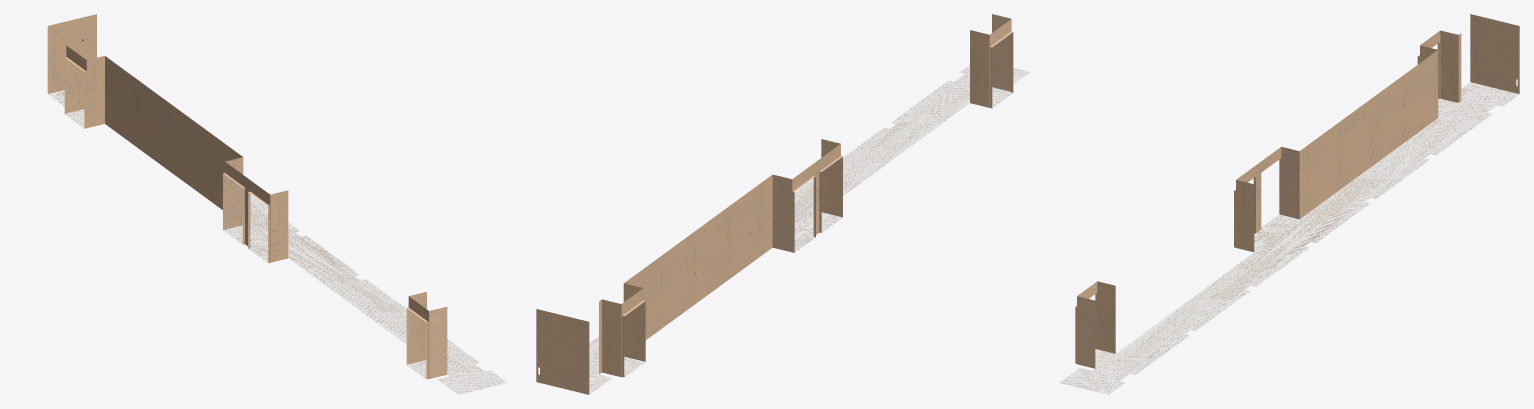
The model's file is COM040.obj.
3 views of the same model, side by side, from view 1: azimuth 30°, elevation 25°; view 2: azimuth 150°, elevation 25°; view 3: azimuth 330°, elevation 25° (orthographic). The views are drawn at different scales.
Parts seen in each view (by area): view 1: Mesh1 COM040 Model; view 2: Mesh1 COM040 Model; view 3: Mesh1 COM040 Model.
Boxes of the visible parts, x1,y1,x2,y2 form: Mesh1 COM040 Model: [47, 14, 506, 394]; Mesh1 COM040 Model: [536, 14, 1030, 394]; Mesh1 COM040 Model: [1059, 14, 1519, 394].
Size of the model in its own units: 5.77 by 3.6 by 39.35.
5 materials, 2 textured.
